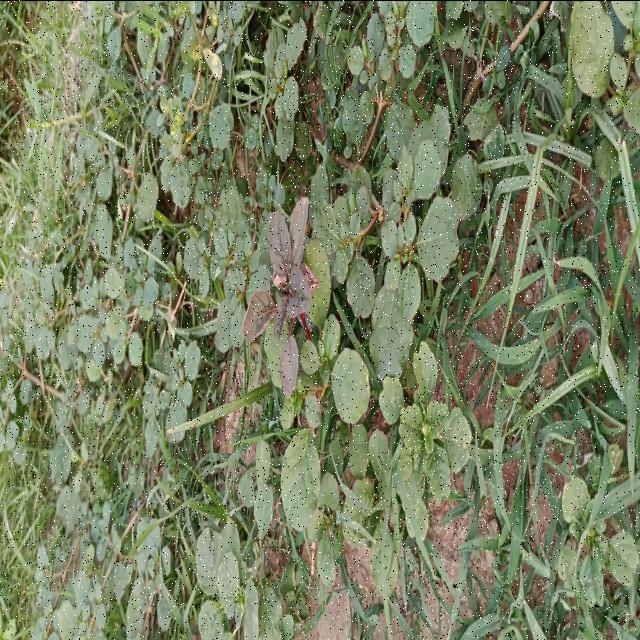plant: (241, 197, 317, 399)
